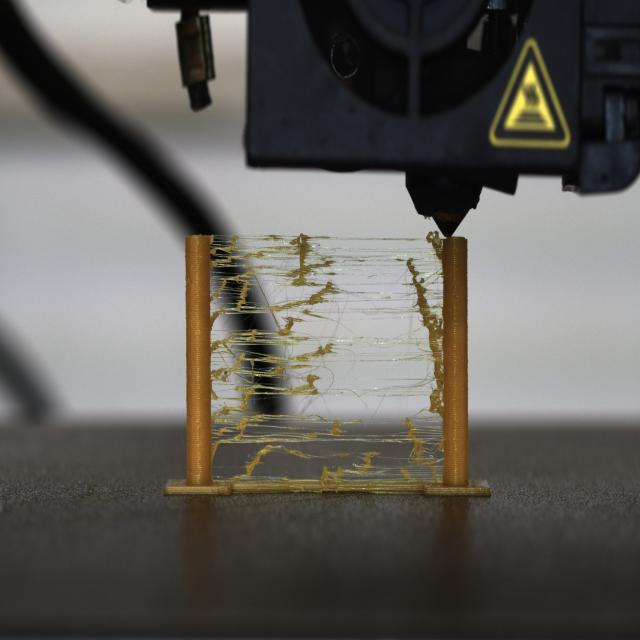Warping: (211, 234, 442, 490)
